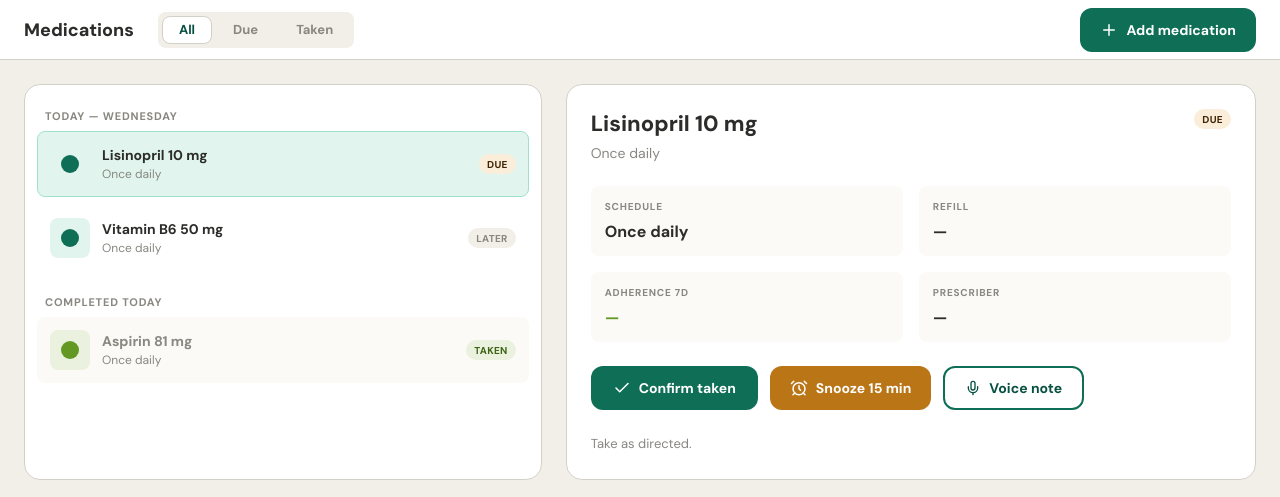
it: MedicationsScreen › filters the ledger with the All / Due / Taken tabs
Click the tab "Taken" at (315, 30), box [279,16,350,44]
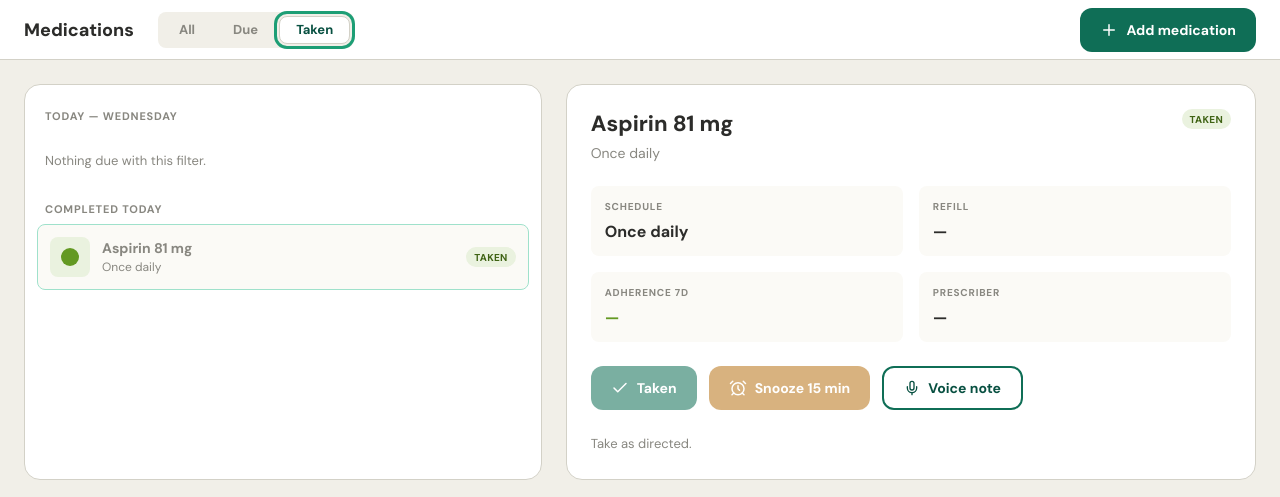
Expected: the option shows "Aspirin", [37,224,529,290]
Expected: the number of options is 1, [37,224,529,290]
Expected: the text "Nothing due with this filter." is shown, [45,152,206,169]
Click the tab "Due" at (246, 30), box [216,16,275,44]
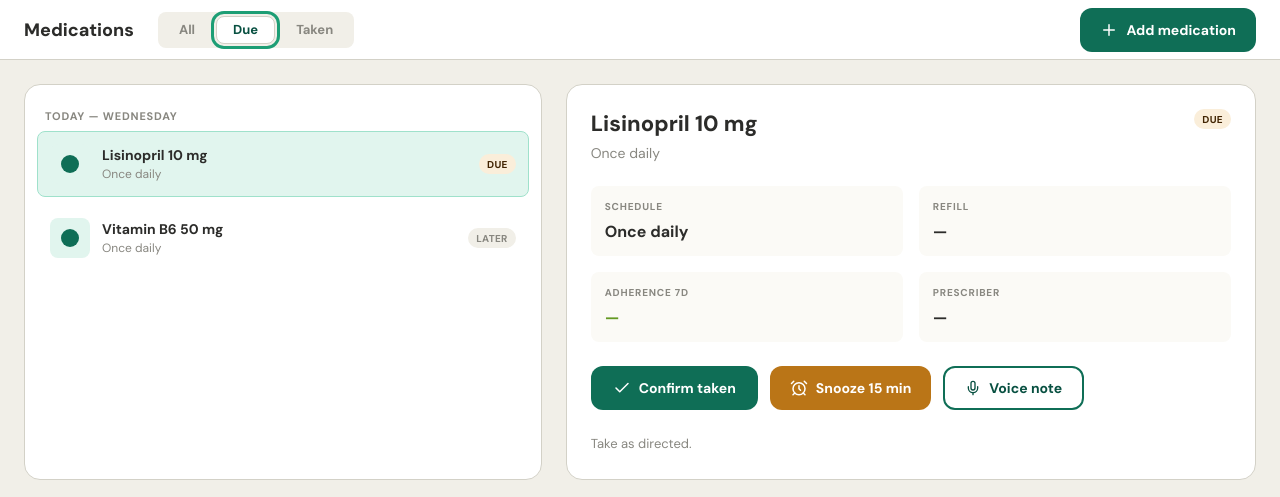
Expected: the number of options is 2, [37,131,529,197]; [37,205,529,271]
Click the tab "All" at (187, 30), box [162,16,212,44]
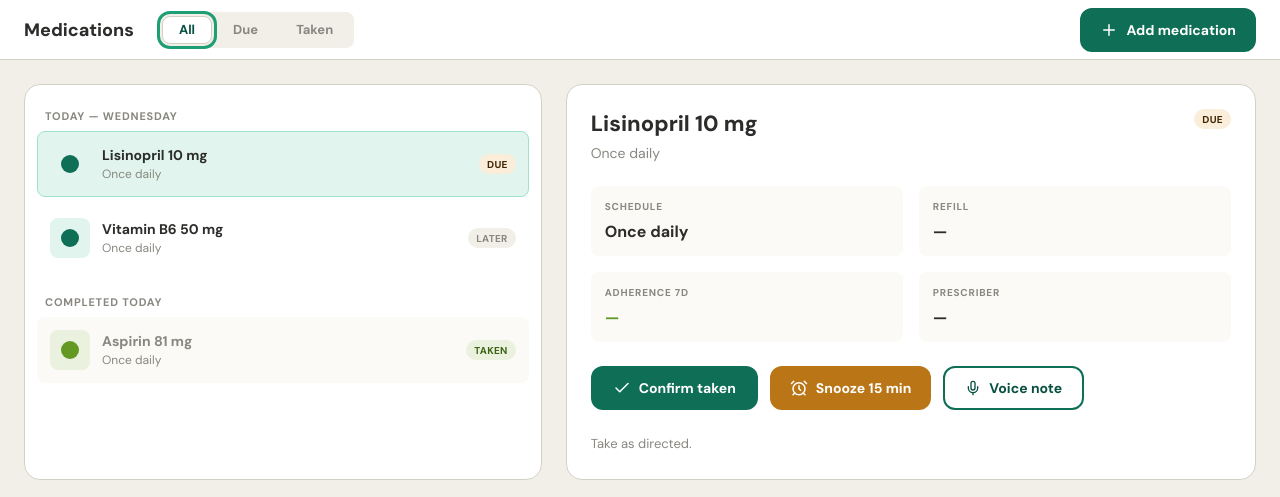
Expected: the number of options is 3, [37,131,529,197]; [37,205,529,271]; [37,317,529,383]
